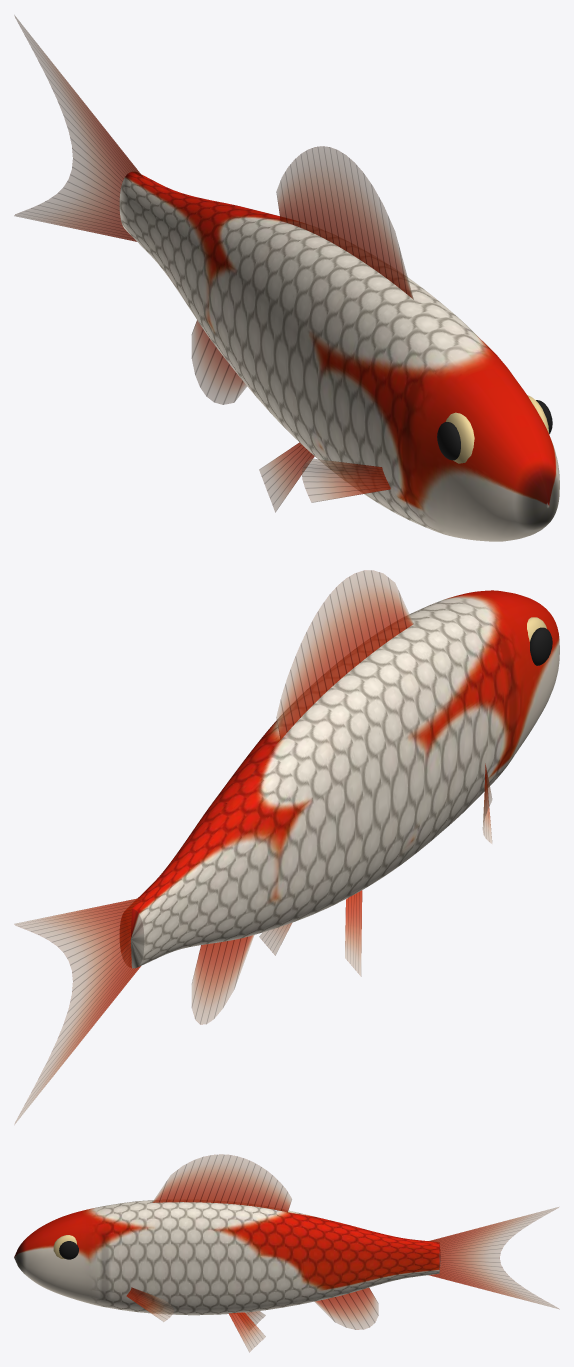
The model's file is wakin_3.glb.
3 views of the same model, one above another, from view 1: azimuth 30°, elevation 25°; view 2: azimuth 150°, elevation 25°; view 3: azimuth 270°, elevation 25° (orthographic). The views are drawn at different scales.
Parts seen in each view (by area): view 1: body, fins, iris, pupil; view 2: body, fins, pupil; view 3: body, fins, pupil.
Part boxes in pixels (x1=…): body: x1=119, y1=172, x2=559, y2=541; fins: x1=14, y1=15, x2=413, y2=512; iris: x1=446, y1=395, x2=549, y2=463; pupil: x1=437, y1=400, x2=552, y2=460; body: x1=120, y1=590, x2=559, y2=968; fins: x1=14, y1=570, x2=492, y2=1124; pupil: x1=530, y1=627, x2=552, y2=665; body: x1=14, y1=1200, x2=440, y2=1315; fins: x1=126, y1=1154, x2=559, y2=1352; pupil: x1=59, y1=1241, x2=78, y2=1259.
Bounding box in the file's own units: 0.1914 × 0.3716 × 0.98.
Materials: 4 (2 with a texture image).
